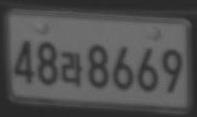4: (13, 40, 35, 83)
6: (137, 47, 159, 91), (113, 46, 133, 89)
8: (37, 42, 58, 85), (88, 45, 108, 88)
9: (162, 49, 182, 92)
라: (60, 51, 82, 86)
